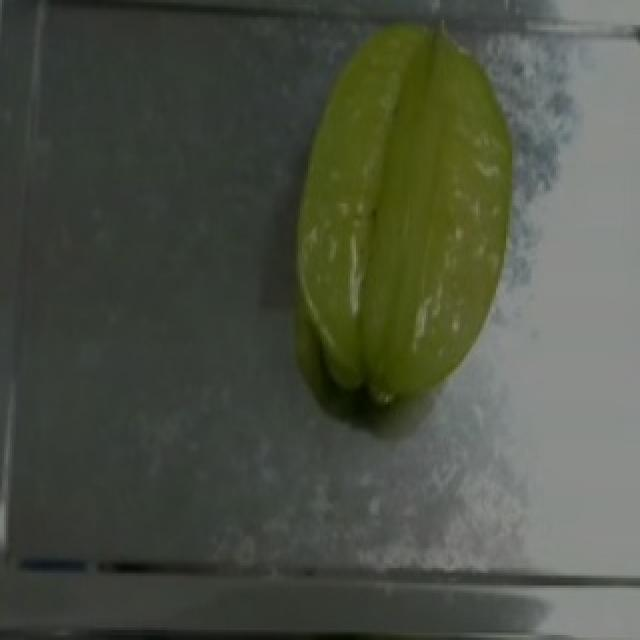fruit: (272, 10, 542, 392)
